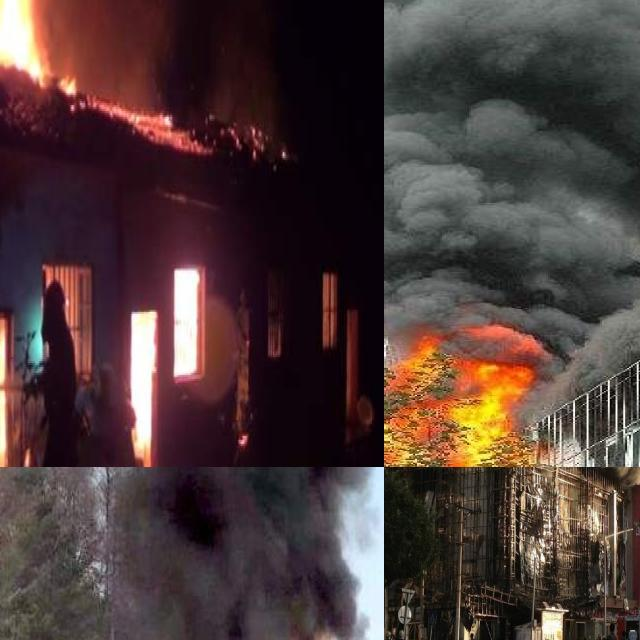fire: (384, 323, 540, 467), (129, 311, 153, 467), (0, 0, 42, 87), (172, 260, 198, 372)
smoke: (384, 0, 640, 369), (108, 467, 370, 640), (41, 0, 183, 117), (384, 467, 640, 529)
